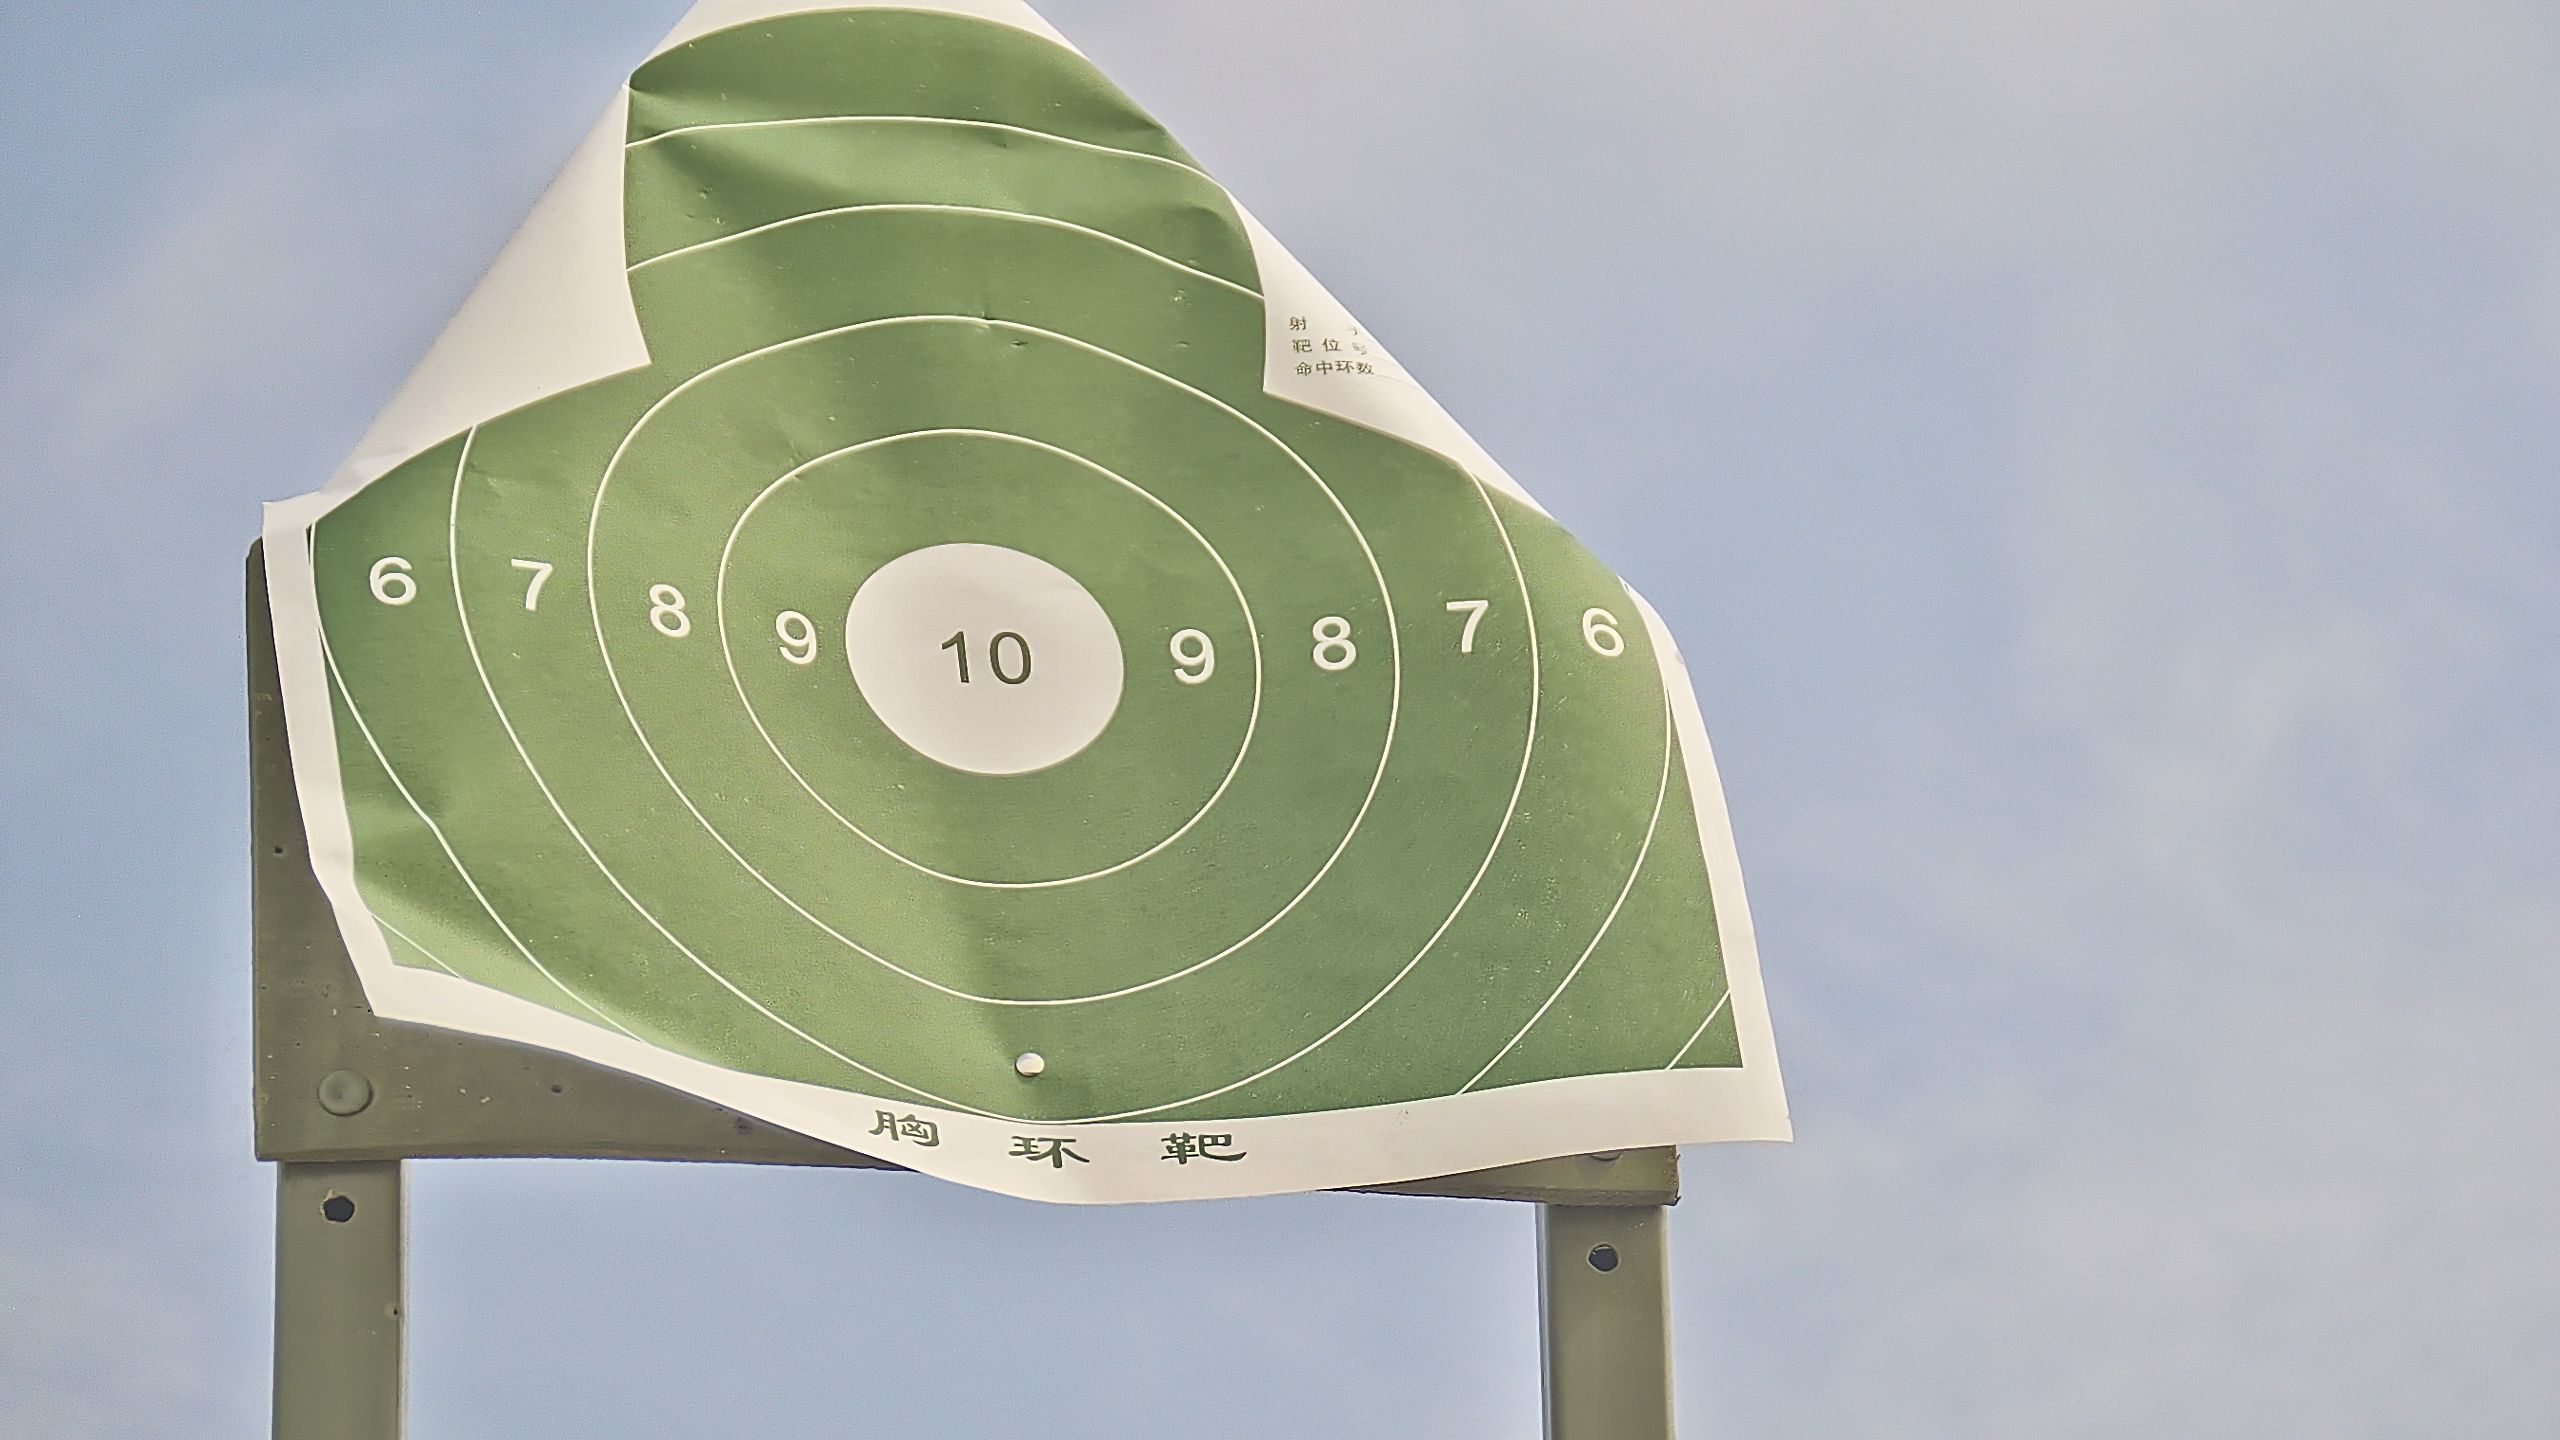target: (308, 2, 1744, 1127)
ten: (842, 543, 1129, 777)
